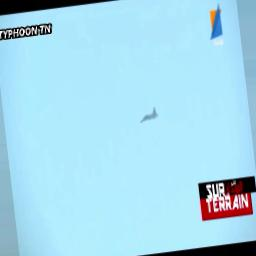Airplane: (138, 106, 160, 124)
